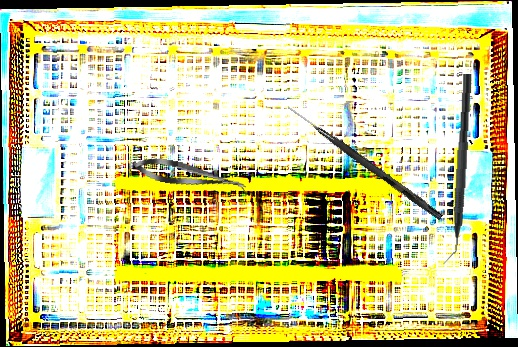Chopper: (440, 73, 473, 265)
Hook Surgical: (284, 104, 445, 221)
Micro Scissor: (130, 153, 249, 198)
